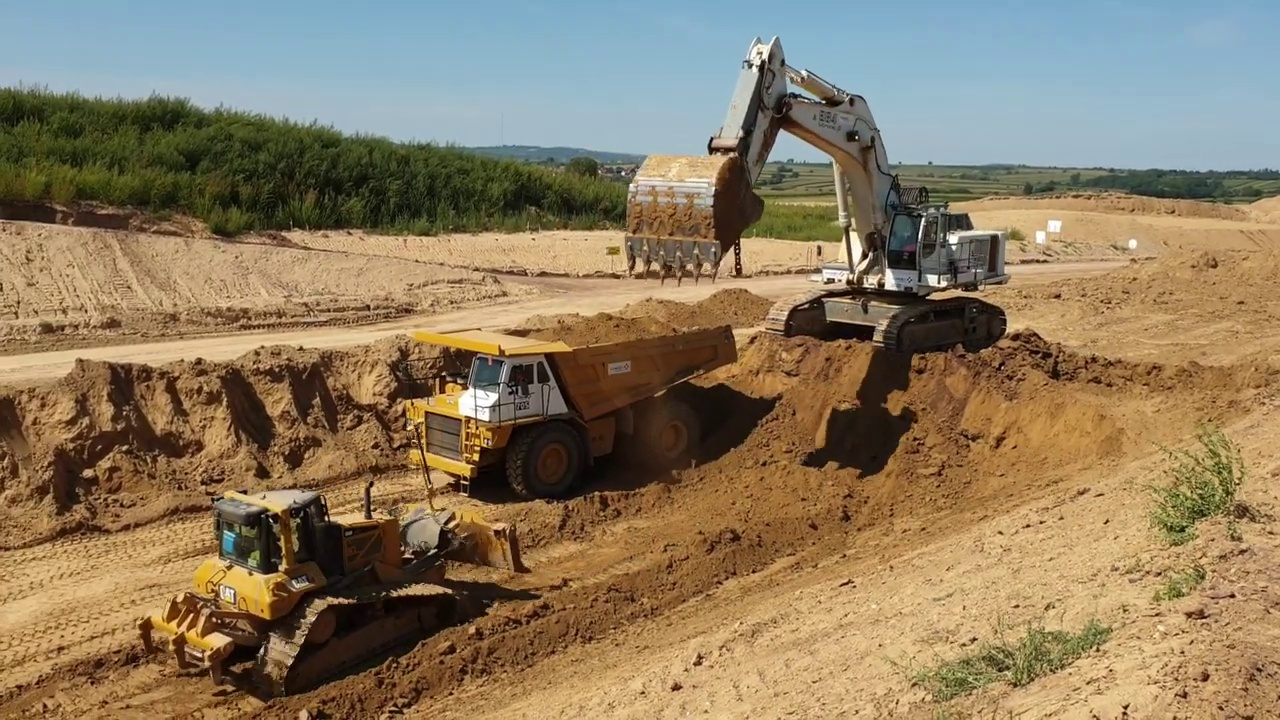bulldozer: (137, 421, 530, 700)
excavator: (619, 31, 1015, 358)
truck: (401, 313, 745, 502)
